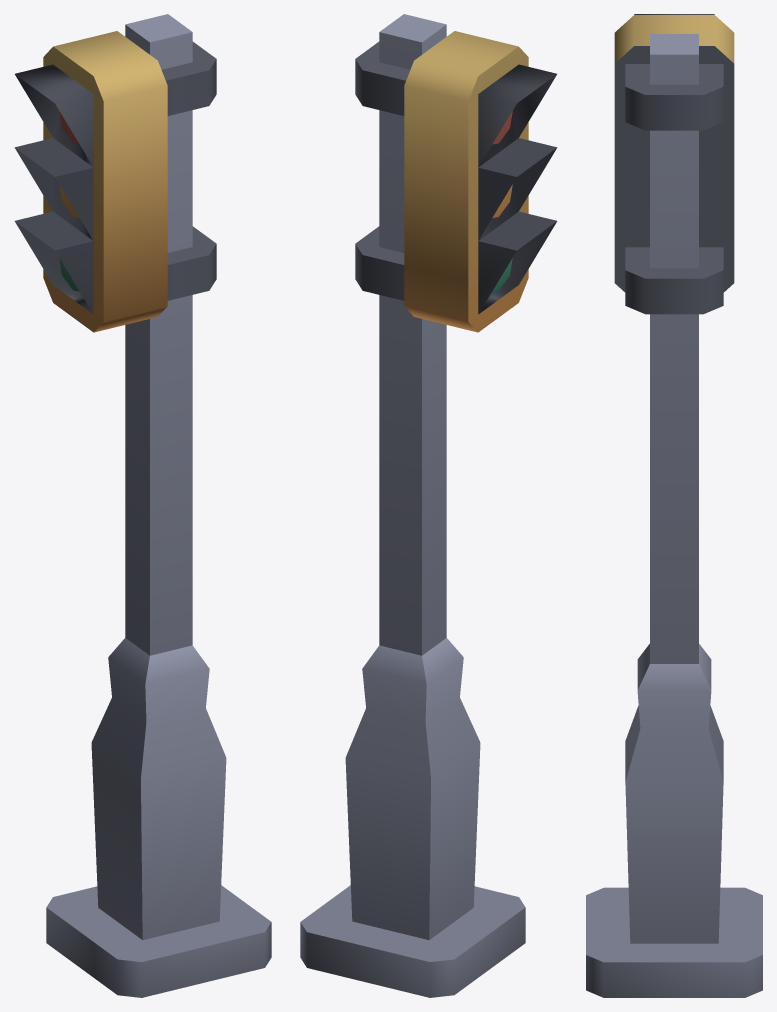
The model's file is traffic-light-01.glb.
3 renders of one model, left to right at view 1: azimuth 30°, elevation 25°; view 2: azimuth 150°, elevation 25°; view 3: azimuth 270°, elevation 25°, orthographic.
Visible parts, largest first — view 1: traffic-light-01; view 2: traffic-light-01; view 3: traffic-light-01.
Part boxes in pixels (box(x1,y1,x2,y2)): traffic-light-01: box(14, 14, 271, 997); traffic-light-01: box(300, 14, 557, 997); traffic-light-01: box(586, 14, 762, 997).
Size of the model in its own units: 1 by 4.38 by 0.7653.
